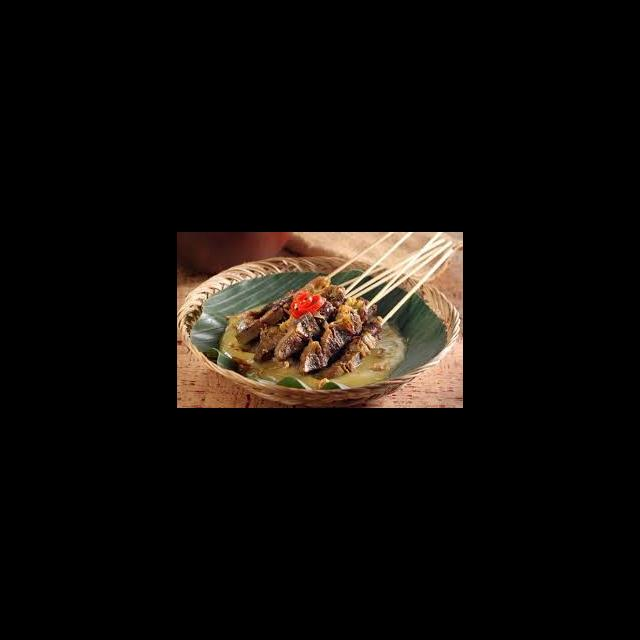food_waste: (253, 291, 364, 363)
